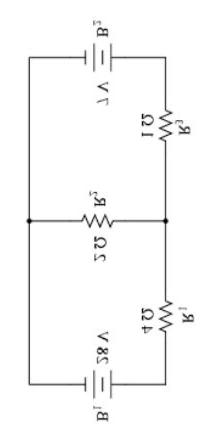Battery: (58, 33, 121, 105)
